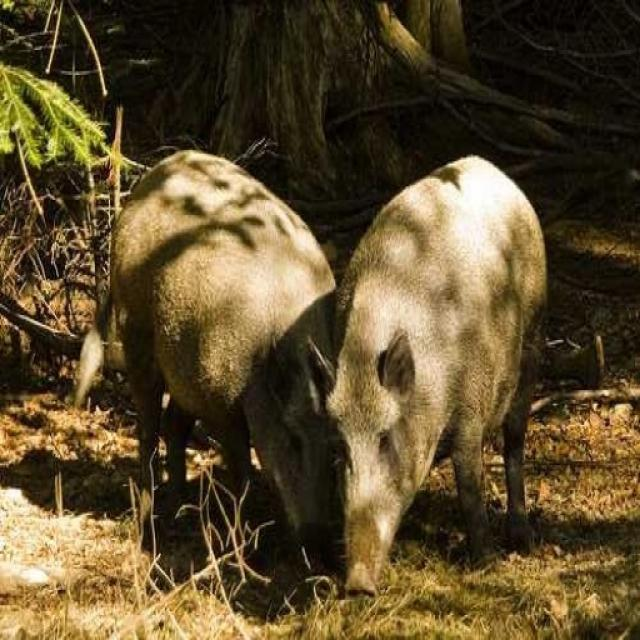pig: (72, 120, 388, 592), (309, 142, 566, 640)
